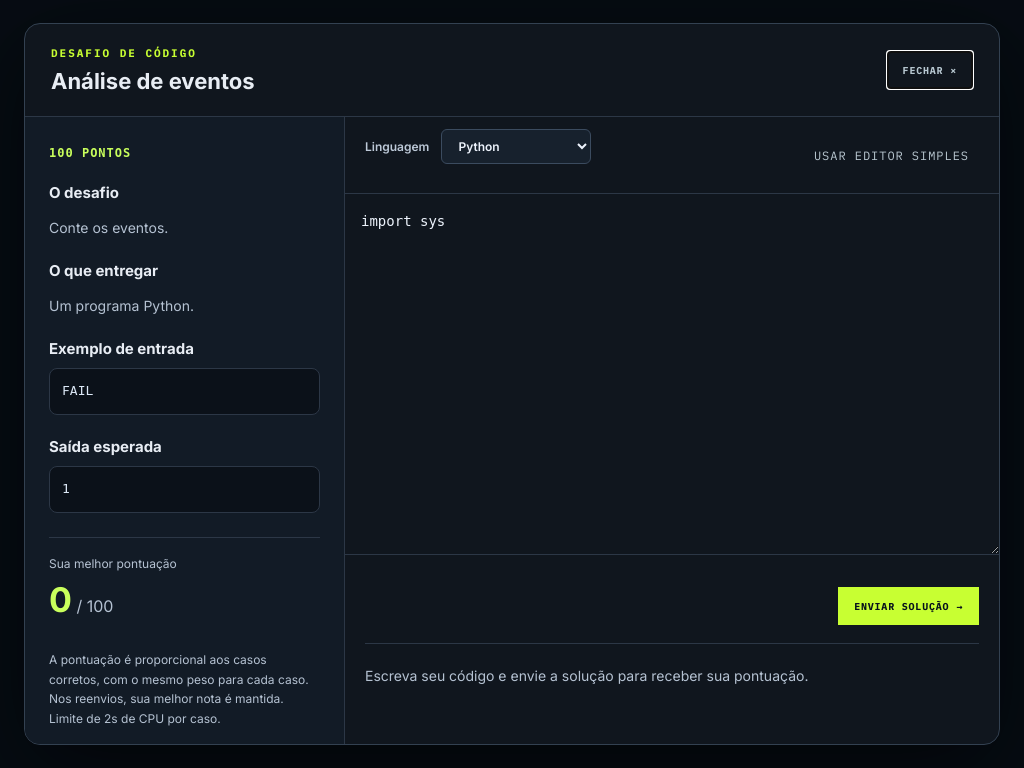
candidate submissions › submits only code and language and displays 100 points
Replace the text in the text box named "Editor de código" with "print(1)" at {"x": 672, "y": 374}, box [345,194,999,554]
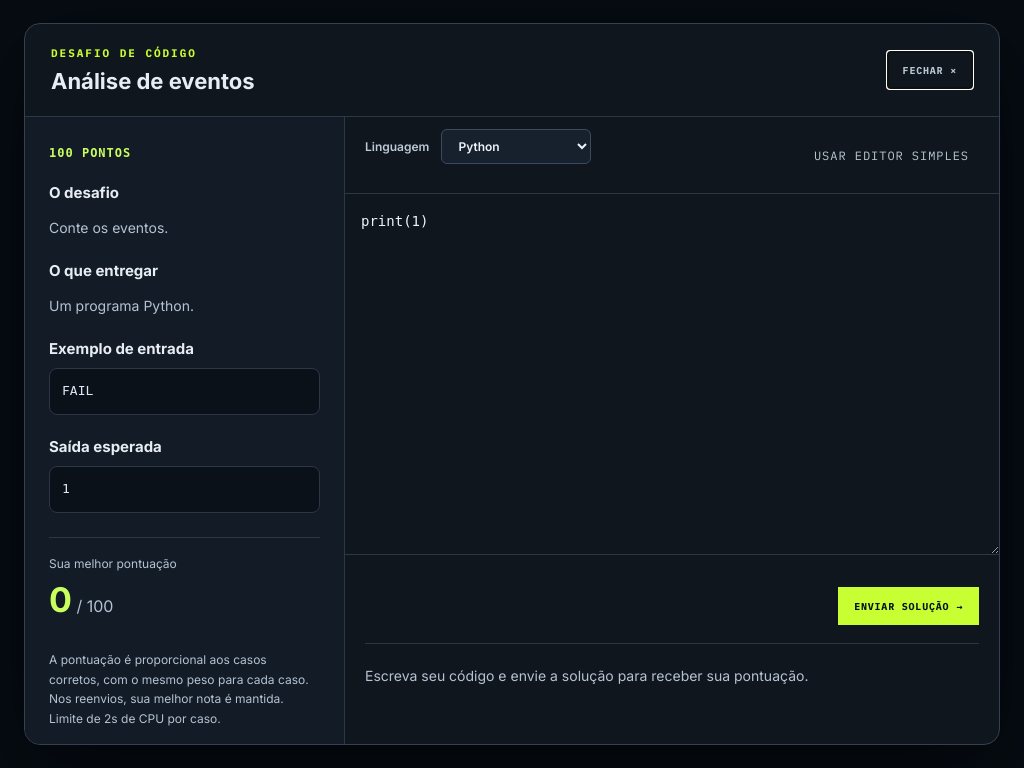
Click the button "ENVIAR SOLUÇÃO →" at {"x": 909, "y": 606}, box [838,587,979,625]
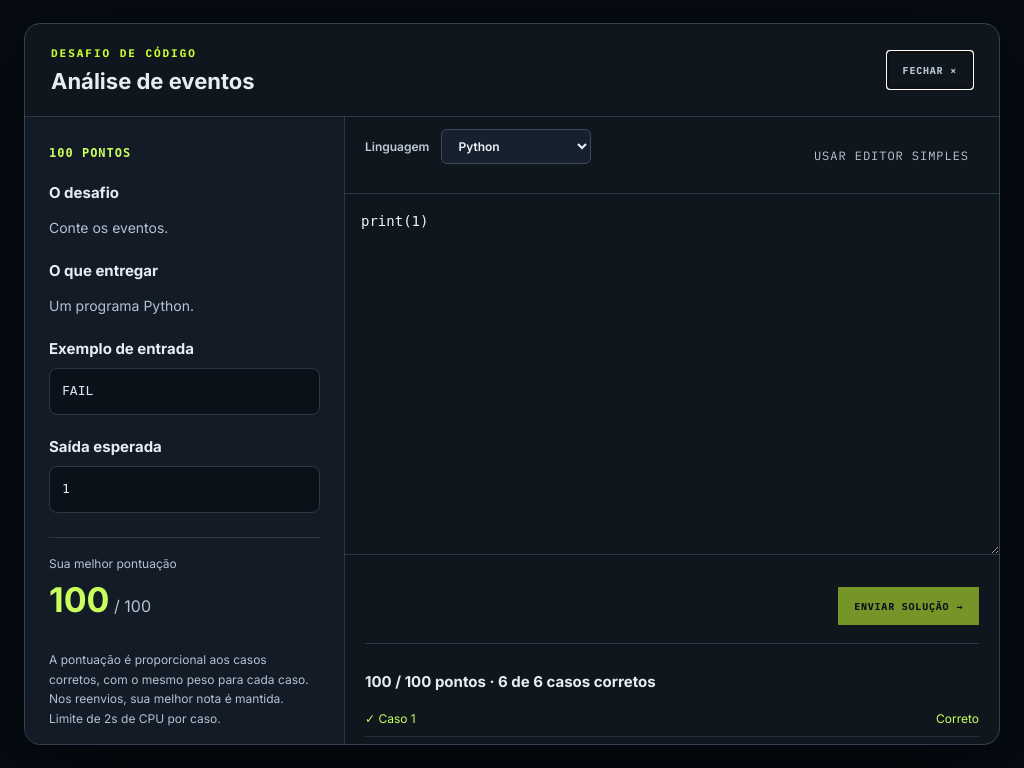
Check: the element showing "100 / 100" is shown, box [49,579,151,620]
